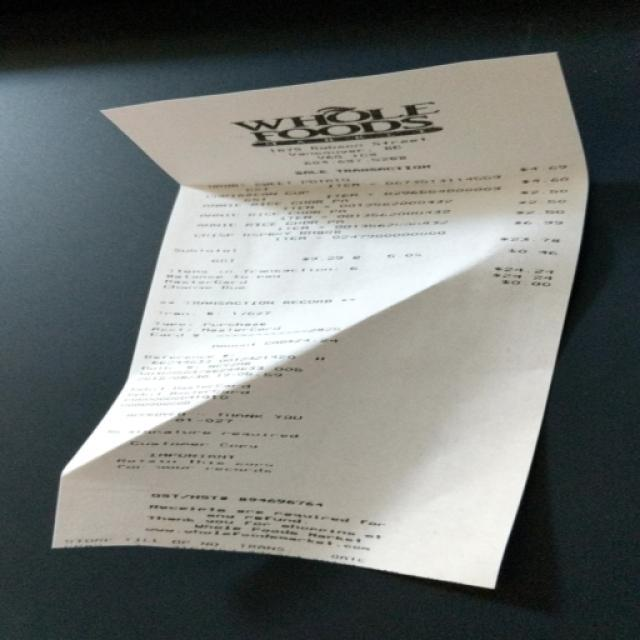document: (54, 56, 588, 588)
